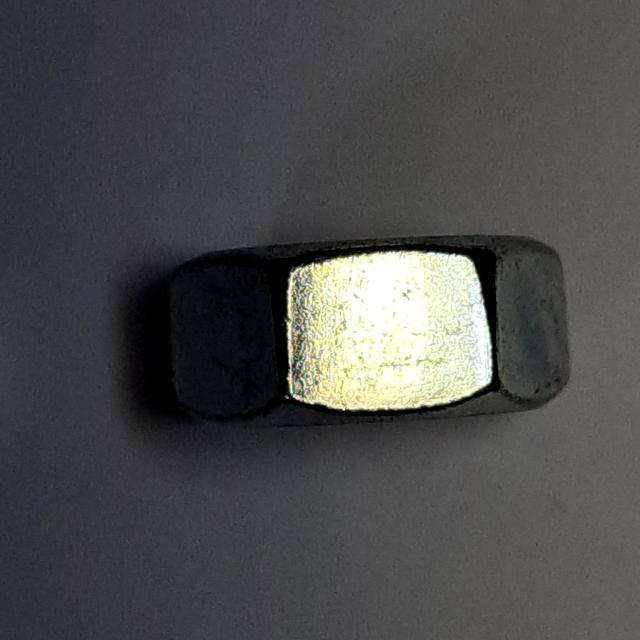Side_Excellent: (156, 209, 588, 444)
